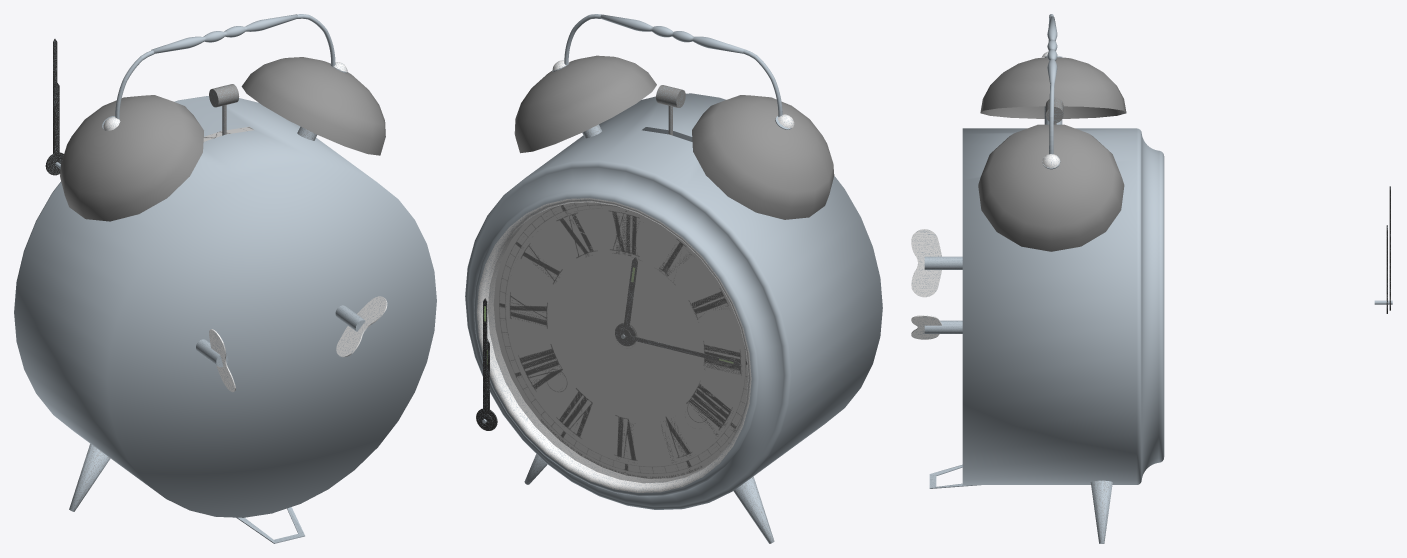
Rendered from Alarm_clock.dae.
The picture shows the model from 3 angles, left to right: view 1: azimuth 30°, elevation 25°; view 2: azimuth 150°, elevation 25°; view 3: azimuth 270°, elevation 25°; orthographic projection. The views are drawn at different scales.
Parts seen in each view (by area): view 1: carcaça, group_41, group_43, corda (×2), group_11, group_5, group_0, group_4, group_6; view 2: carcaça (×2), vidro, fundo, group_41, group_43, group_11, group_5, group_1, group_9, group_8, group_4; view 3: carcaça, group_43, group_41, corda, group_7, group_11.
Part boxes in pixels (x1,y1,x2,y2): carcaça: [14, 96, 436, 517]; group_41: [60, 95, 203, 221]; group_43: [241, 57, 385, 155]; corda (×2): [209, 296, 387, 392]; group_11: [151, 14, 297, 53]; group_5: [69, 443, 110, 511]; group_0: [45, 81, 63, 175]; group_4: [209, 84, 239, 107]; group_6: [236, 507, 304, 543]; carcaça (×2): [465, 93, 882, 509]; vidro: [488, 202, 748, 483]; fundo: [493, 202, 748, 478]; group_41: [692, 95, 834, 219]; group_43: [514, 55, 656, 153]; group_11: [600, 14, 744, 53]; group_5: [733, 476, 774, 543]; group_1: [477, 298, 492, 428]; group_9: [616, 328, 740, 365]; group_8: [615, 257, 637, 346]; group_4: [656, 85, 685, 107]; carcaça: [962, 128, 1164, 484]; group_43: [978, 124, 1124, 251]; group_41: [980, 57, 1126, 118]; corda: [911, 229, 941, 297]; group_7: [1090, 480, 1112, 543]; group_11: [1047, 16, 1057, 83].
Size of the model in its own units: 6.3 by 8.47 by 8.59.
